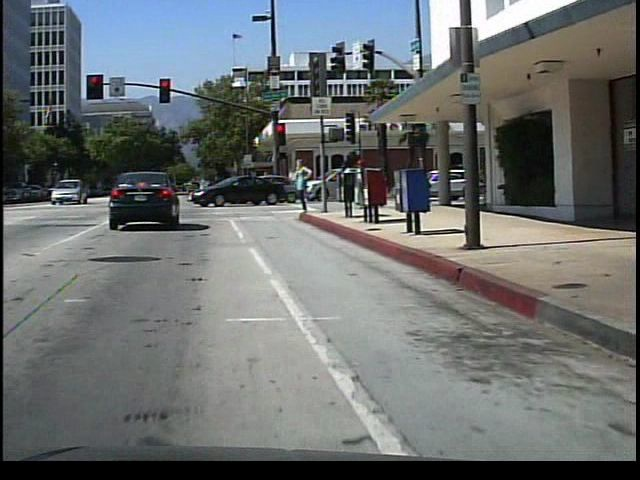person: (294, 152, 320, 217), (342, 155, 362, 209), (356, 154, 375, 210)
